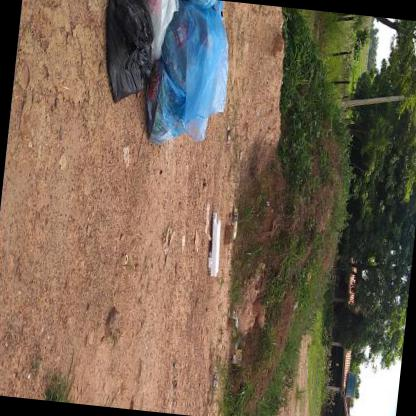lixo: (90, 0, 243, 159)
